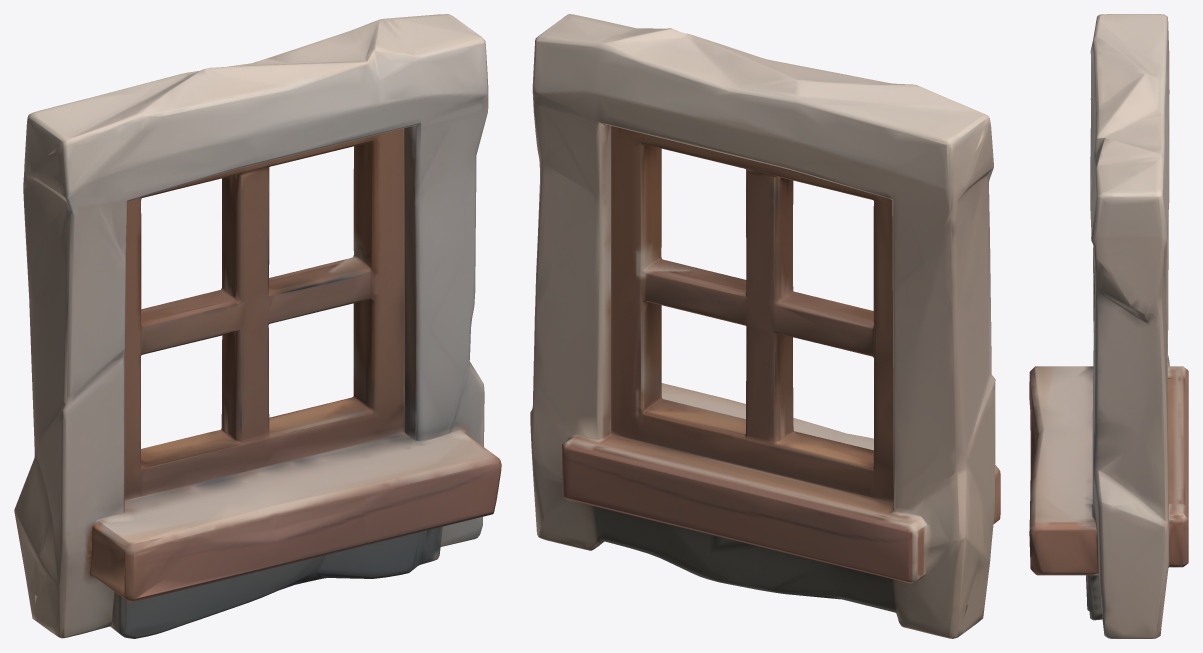
File: window_frame.fbx
3 views of the same model, side by side, from view 1: azimuth 30°, elevation 25°; view 2: azimuth 150°, elevation 25°; view 3: azimuth 270°, elevation 25° (orthographic). The views are drawn at different scales.
Visible parts, largest first — view 1: window_frame; view 2: window_frame; view 3: window_frame.
Part boxes in pixels (<box>): window_frame: <box>14,14,501,638</box>; window_frame: <box>530,14,1000,638</box>; window_frame: <box>1029,14,1188,638</box>.
Size of the model in its own units: 27.11 by 31.19 by 9.7.
Materials: 1 (1 with a texture image).
